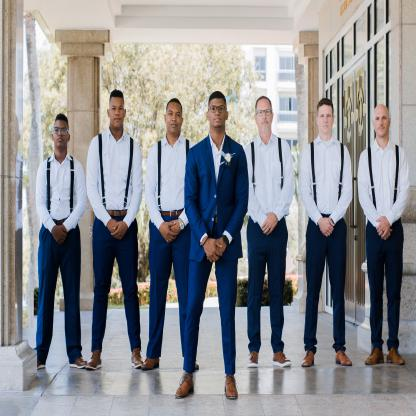Eye: (374, 116, 380, 122), (211, 106, 216, 112), (54, 128, 59, 134), (176, 113, 181, 118), (112, 105, 116, 111), (266, 109, 270, 115), (220, 106, 224, 111), (119, 107, 123, 112), (168, 111, 172, 116), (62, 129, 66, 134), (258, 110, 262, 114), (327, 114, 331, 118), (320, 115, 325, 118), (383, 116, 386, 120)
Mouth: (213, 117, 222, 123), (114, 116, 122, 122), (56, 136, 64, 142), (170, 122, 177, 128), (322, 124, 329, 129), (377, 127, 385, 131), (262, 122, 268, 126)
Nose: (172, 113, 177, 122), (115, 108, 120, 116), (262, 111, 266, 120), (215, 108, 219, 116), (379, 119, 383, 127), (58, 131, 63, 137), (323, 117, 328, 122)
